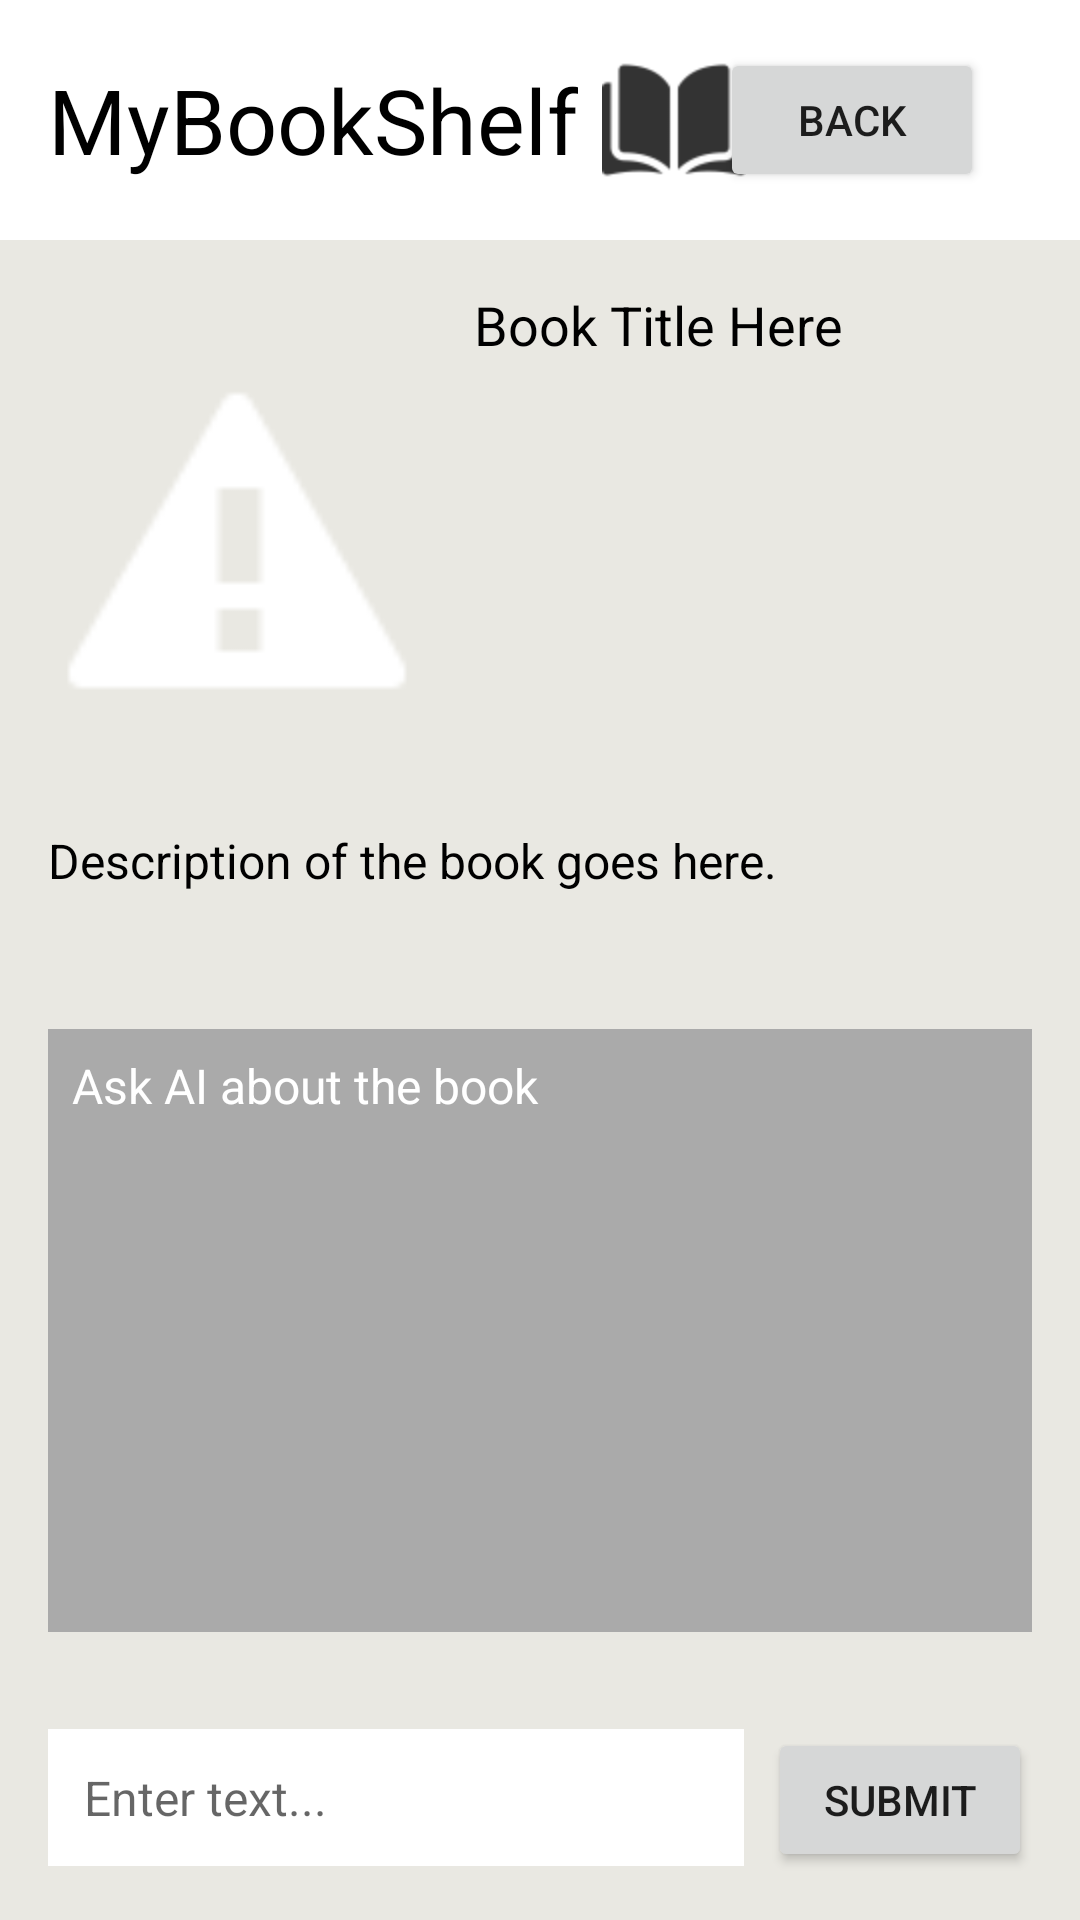

Screen size 1080 × 1920. Icon name, then its center in pixels as (x=x, y=y):
error: (x=237, y=541)
